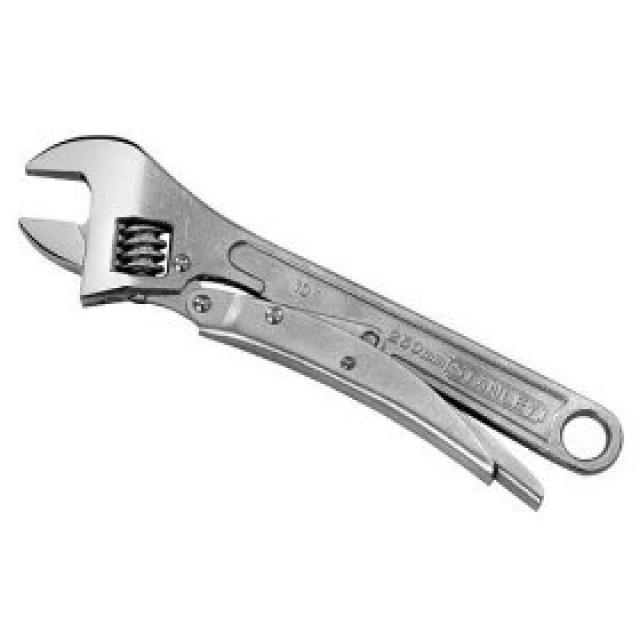wrench: (15, 132, 630, 520)
